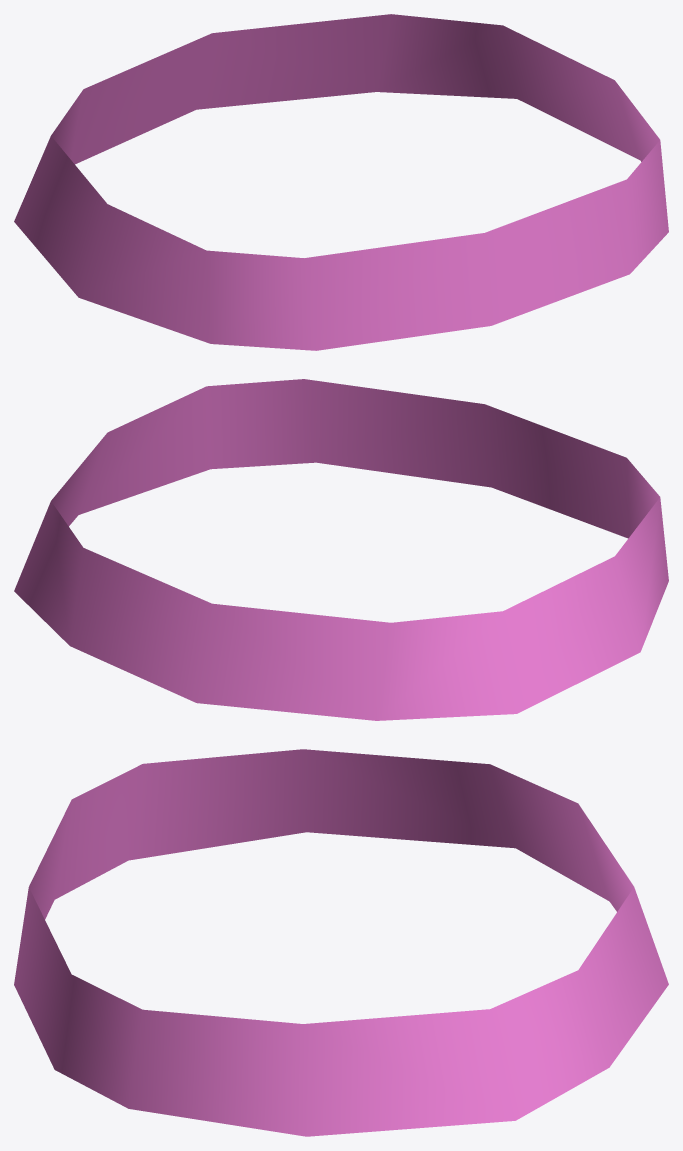
File: AroCabezaBale.FBX
The picture shows the model from 3 angles, top to bottom: view 1: azimuth 30°, elevation 25°; view 2: azimuth 150°, elevation 25°; view 3: azimuth 270°, elevation 25°; orthographic projection. The views are drawn at different scales.
Parts seen in each view (by area): view 1: Tutú002; view 2: Tutú002; view 3: Tutú002.
Boxes of the visible parts, left/top/right/bottom form: Tutú002: left=14, top=14, right=668, bottom=350; Tutú002: left=14, top=379, right=668, bottom=720; Tutú002: left=14, top=749, right=668, bottom=1136.
Size of the model in its own units: 29.44 by 26.76 by 4.43.
